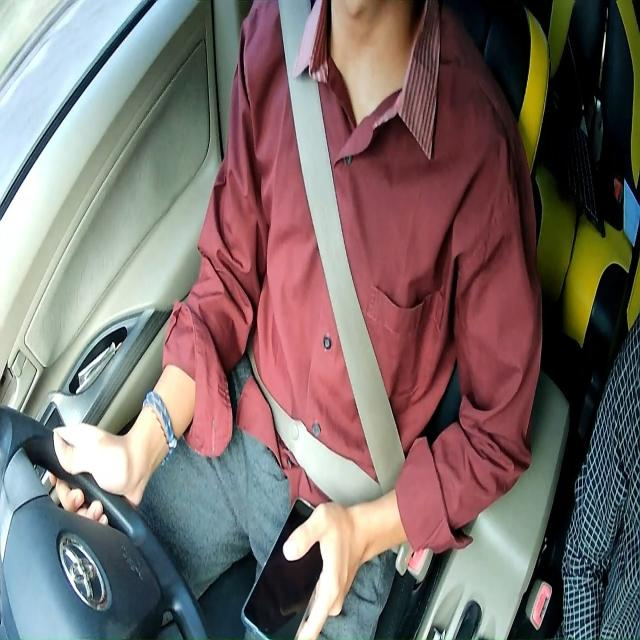phone: (241, 495, 323, 639)
